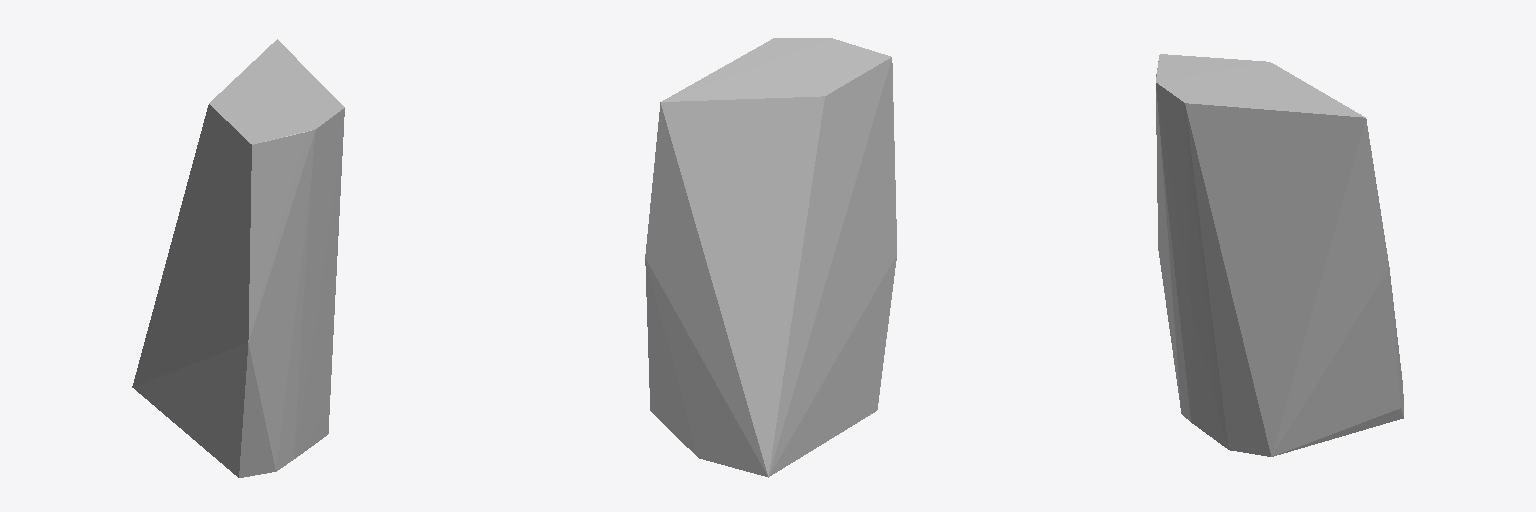
Rendered from trash_bin_collision_53.obj.
3 views of the same model, side by side, from view 1: azimuth 30°, elevation 25°; view 2: azimuth 150°, elevation 25°; view 3: azimuth 270°, elevation 25° (orthographic).
Size of the model in its own units: 0.0207 by 0.0499 by 0.0325.